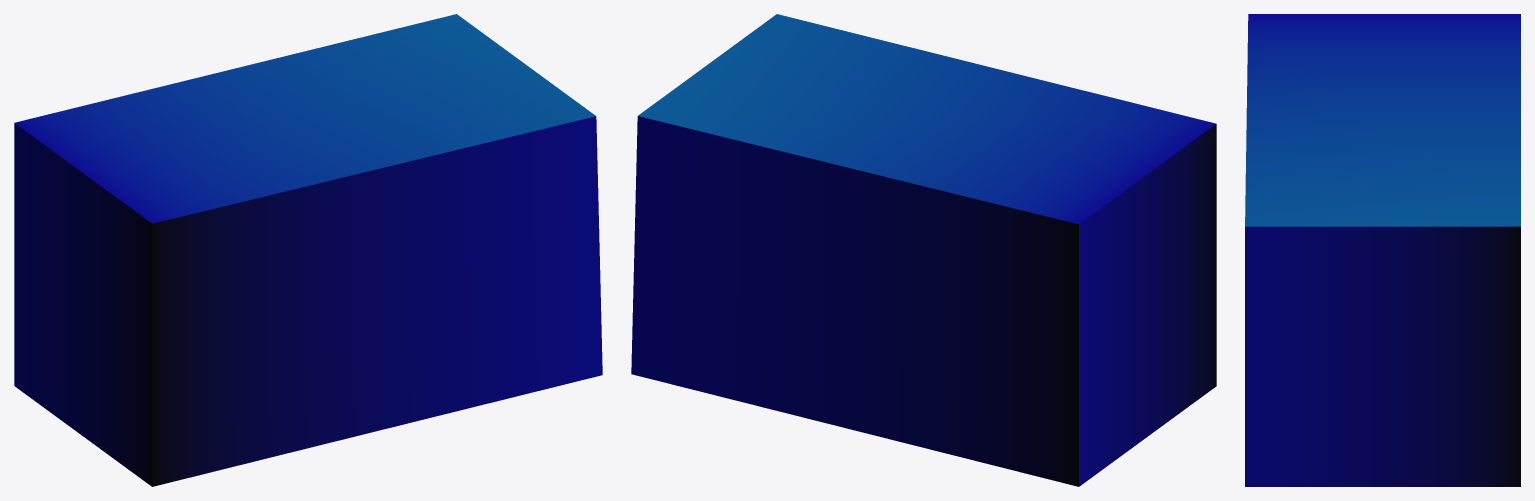
File: Crate_Wood_Big.glb
3 views of the same model, side by side, from view 1: azimuth 30°, elevation 25°; view 2: azimuth 150°, elevation 25°; view 3: azimuth 270°, elevation 25° (orthographic).
Parts seen in each view (by area): view 1: MeshNode_0; view 2: MeshNode_0; view 3: MeshNode_0.
Boxes of the visible parts, bbox=[...] form: MeshNode_0: bbox=[14, 14, 602, 486]; MeshNode_0: bbox=[631, 14, 1216, 486]; MeshNode_0: bbox=[1245, 14, 1520, 486].
Size of the model in its own units: 3.45 by 1.94 by 1.86.
